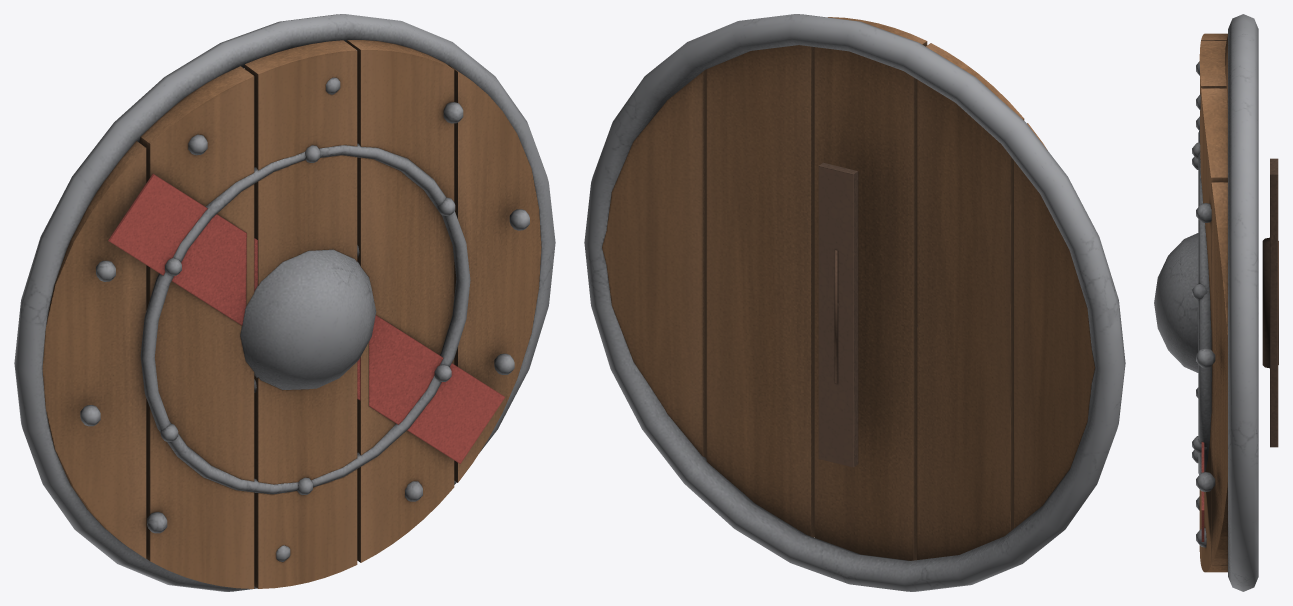
Rendered from heavy-shield.glb.
3 views of the same model, side by side, from view 1: azimuth 30°, elevation 25°; view 2: azimuth 150°, elevation 25°; view 3: azimuth 270°, elevation 25° (orthographic). The views are drawn at different scales.
Parts seen in each view (by area): view 1: heavy-shield; view 2: heavy-shield; view 3: heavy-shield.
Part boxes in pixels (box(x1,y1,x2,y2)): heavy-shield: box(14, 14, 555, 591); heavy-shield: box(584, 14, 1125, 591); heavy-shield: box(1154, 14, 1278, 591).
Size of the model in its own units: 1.69 by 1.69 by 0.365.
Materials: 1 (1 with a texture image).
